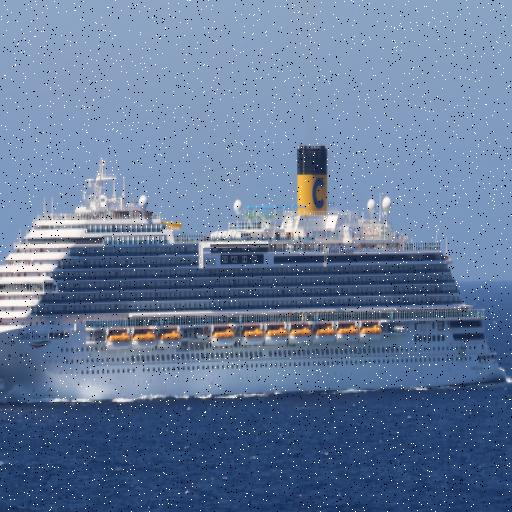cruises: (1, 143, 510, 419)
